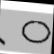no answer: (20, 19, 52, 46)
